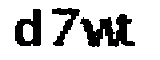7: (49, 5, 82, 52)
d: (7, 6, 46, 52)
t: (117, 12, 151, 48)
w: (79, 16, 121, 49)
